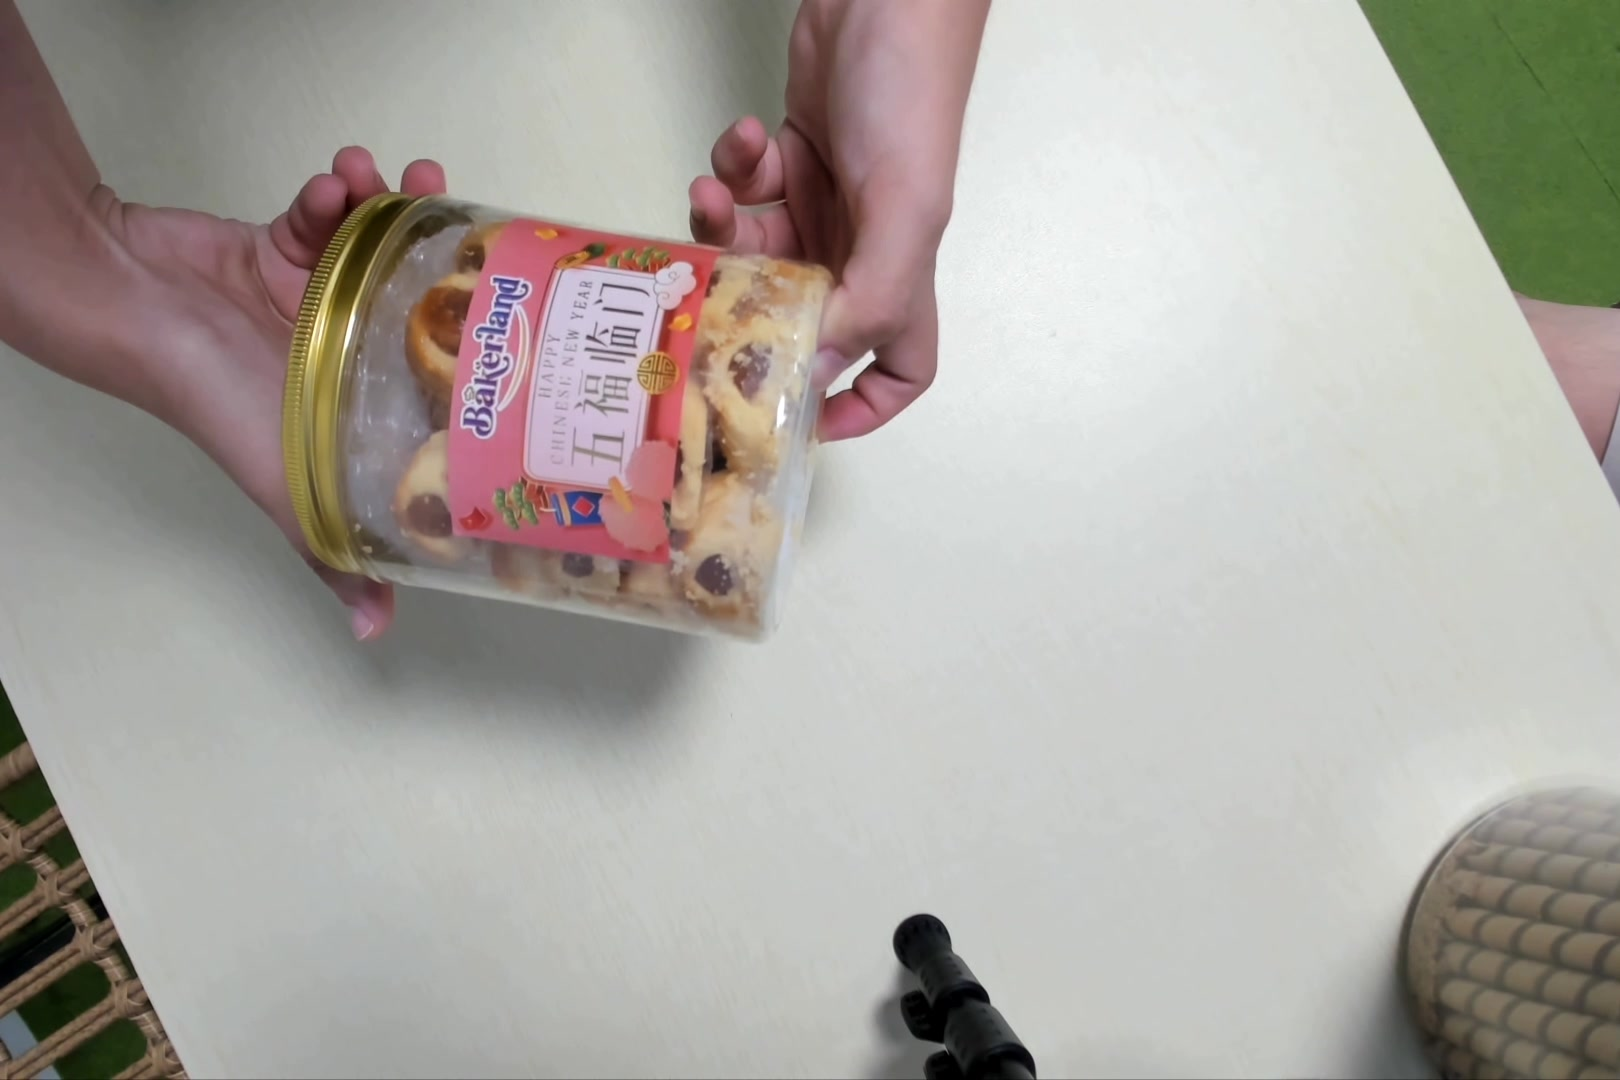BiscuitsCrackersCookies_300-399g_NonHalal_NonHealthy: (260, 190, 841, 636)
